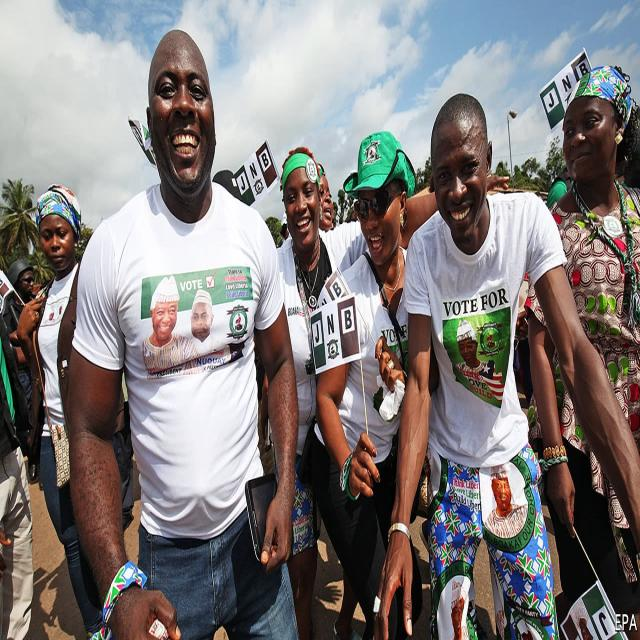body: (68, 27, 314, 639), (368, 86, 640, 639), (275, 145, 511, 640), (525, 60, 639, 639), (309, 127, 425, 640), (17, 182, 105, 640), (0, 271, 50, 640), (504, 276, 555, 522), (3, 259, 35, 424), (314, 140, 365, 231), (541, 175, 571, 210), (418, 506, 434, 550)
